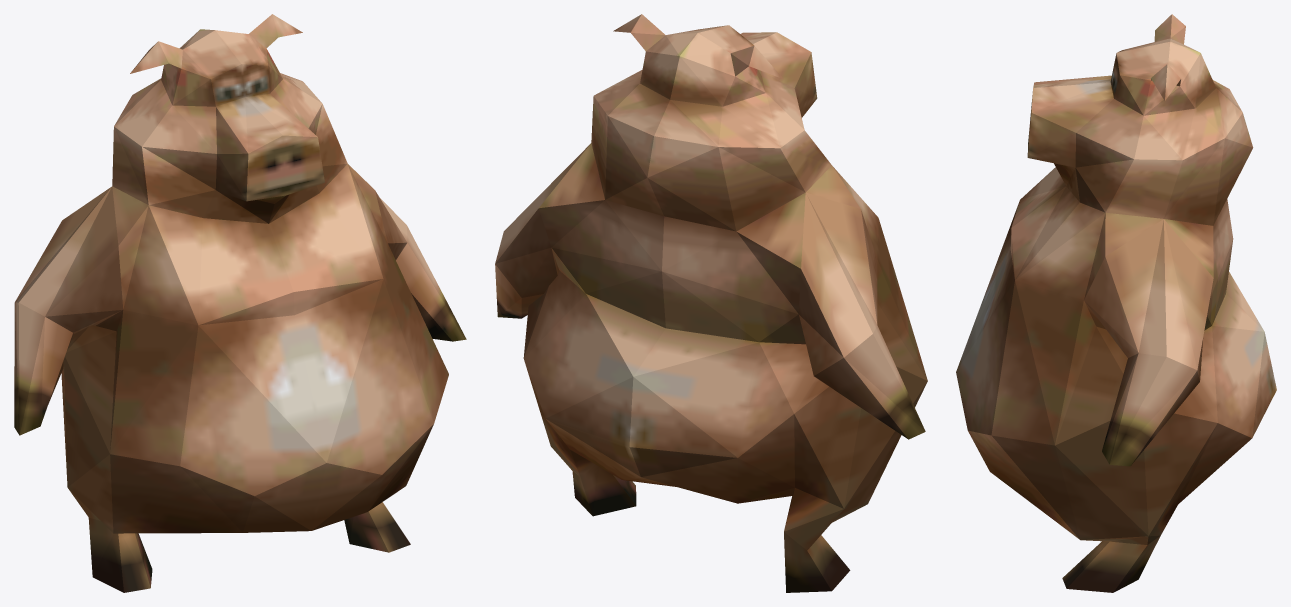
The model's file is pig.glb.
3 renders of one model, left to right at view 1: azimuth 30°, elevation 25°; view 2: azimuth 150°, elevation 25°; view 3: azimuth 270°, elevation 25°, orthographic. The views are drawn at different scales.
Visible parts, largest first — view 1: barnyardslop-2024-04-21-20-48-19.086; view 2: barnyardslop-2024-04-21-20-48-19.086; view 3: barnyardslop-2024-04-21-20-48-19.086.
Boxes of the visible parts, left/top/right/bottom form: barnyardslop-2024-04-21-20-48-19.086: left=14, top=14, right=466, bottom=592; barnyardslop-2024-04-21-20-48-19.086: left=495, top=14, right=927, bottom=592; barnyardslop-2024-04-21-20-48-19.086: left=956, top=14, right=1276, bottom=592.
Size of the model in its own units: 8.62 by 9.96 by 5.91.
1 material, 1 textured.
